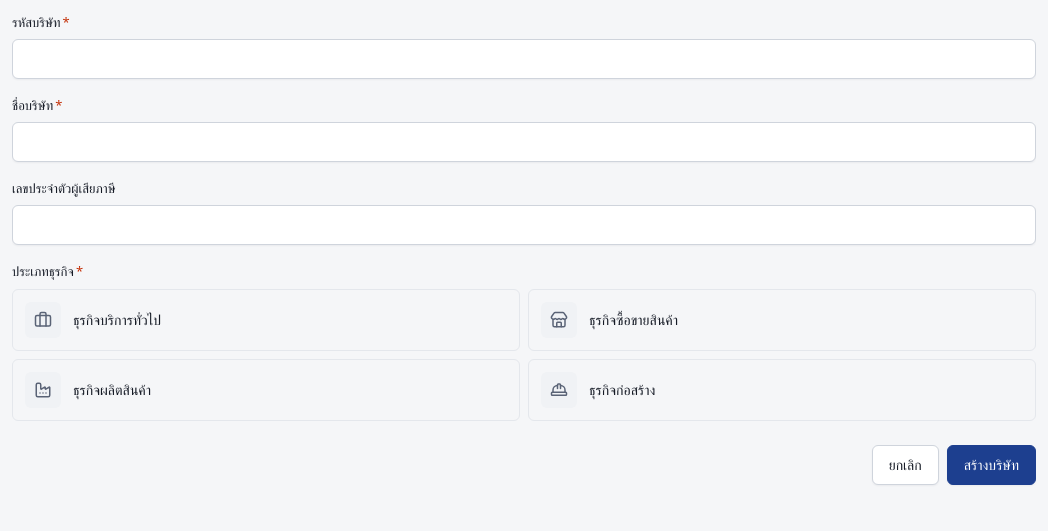
it: CompanyForm — ประเภทธุรกิจ › ยังไม่เลือกประเภท: แจ้งใต้กลุ่มและไม่ส่ง
Type "ACME" into the field labelled "รหัสบริษัท" at [524, 59], box [13,40,1035,78]
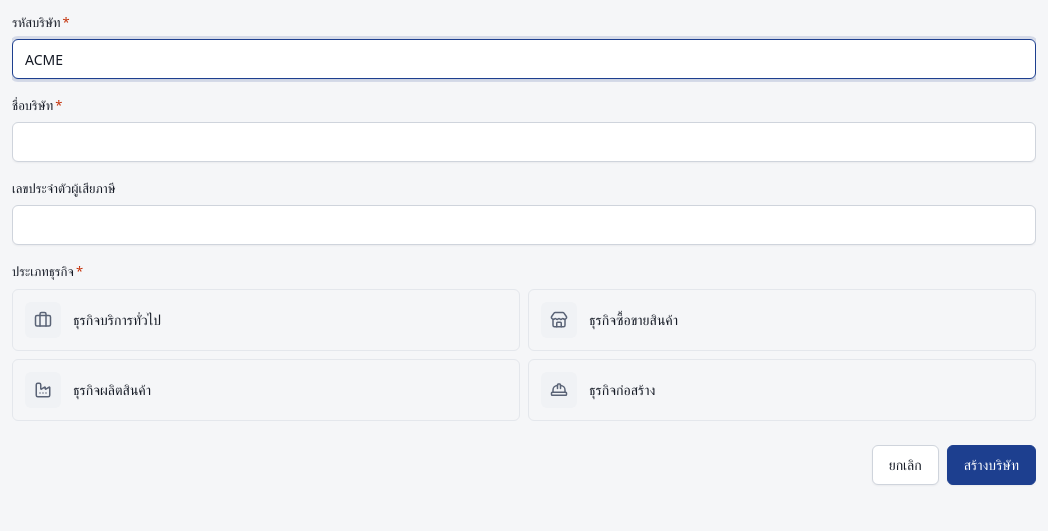
Type "บริษัท แอคมี จำกัด" into the field labelled "ชื่อบริษัท" at [524, 142], box [13,123,1035,161]
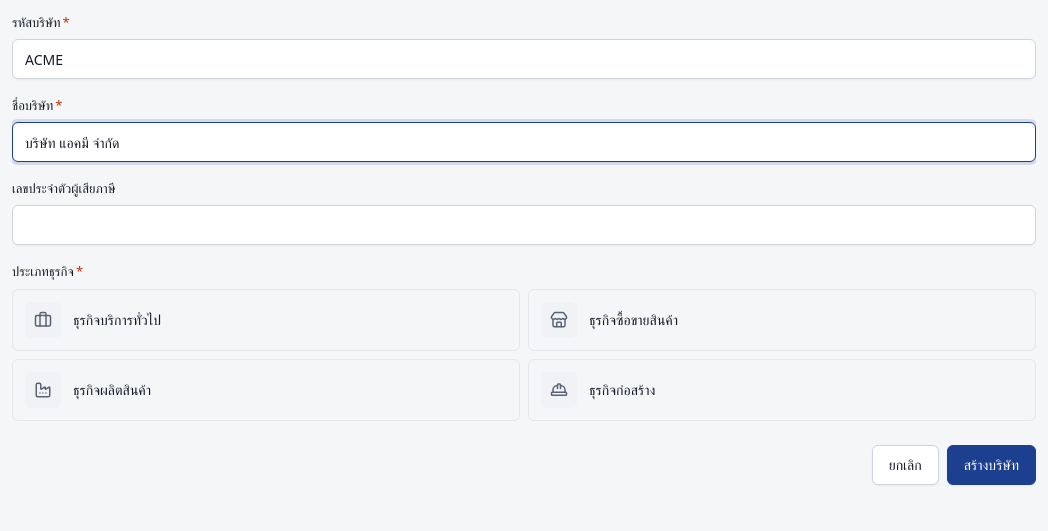
Click the button "สร้างบริษัท" at [991, 464], box [947,444,1036,484]
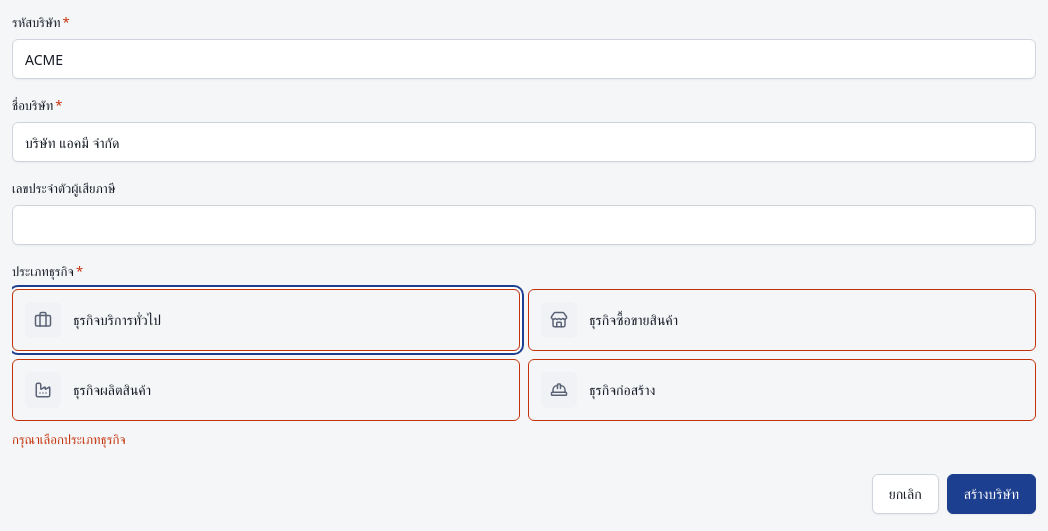
Check: the message reads "กรุณาเลือกประเภทธุรกิจ", box [12,430,126,448]
